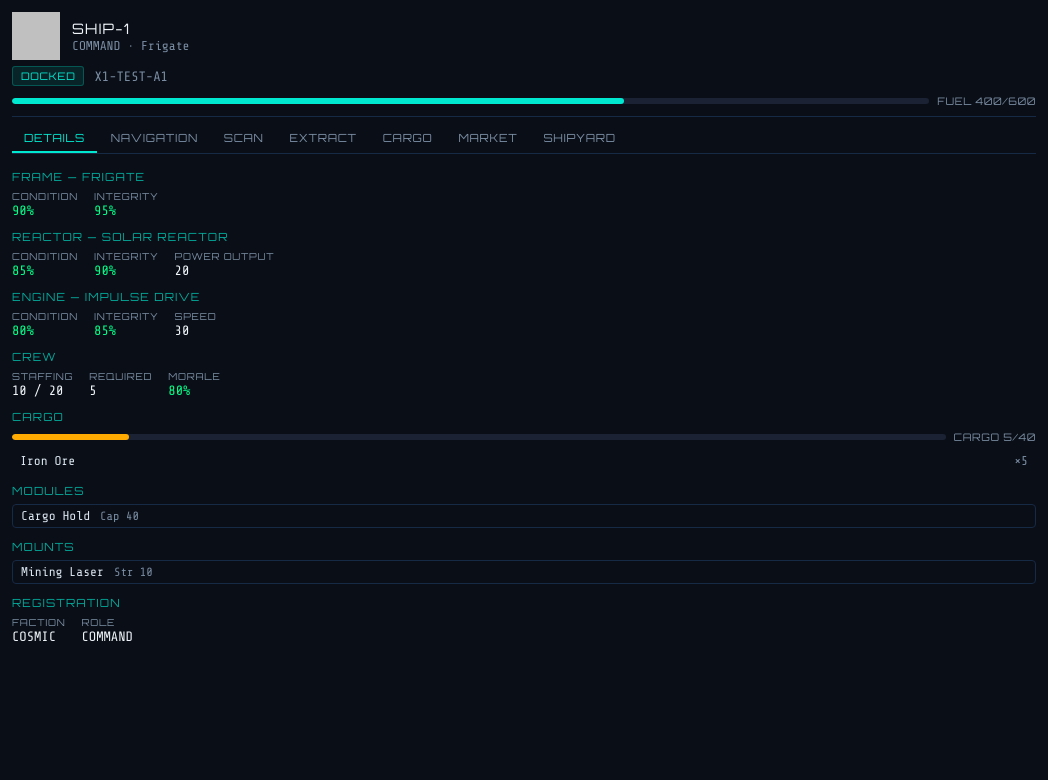
Test: FlightControl › enables refuel when docked
Click the button "Navigation" at (154, 139), box top-left (99, 125), bottom-right (210, 153)
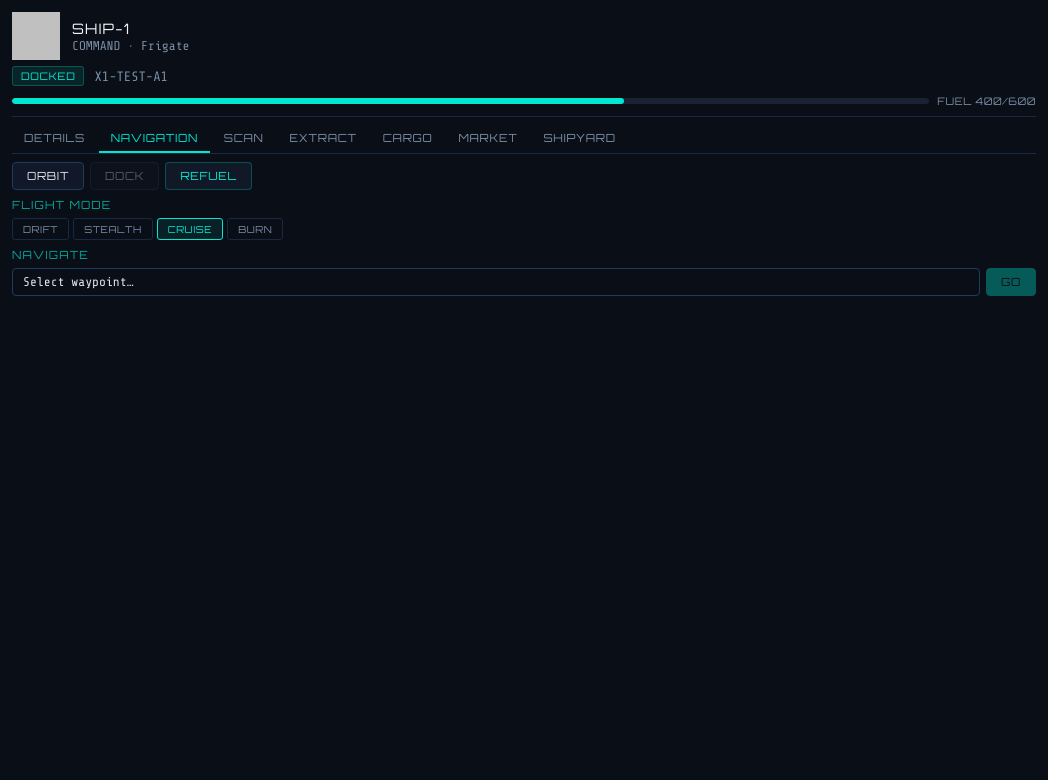
Now the button "Dock" is disabled, box top-left (90, 162), bottom-right (159, 190)
Now the button "Orbit" is enabled, box top-left (12, 162), bottom-right (84, 190)
Now the button "Refuel" is enabled, box top-left (166, 162), bottom-right (252, 190)
